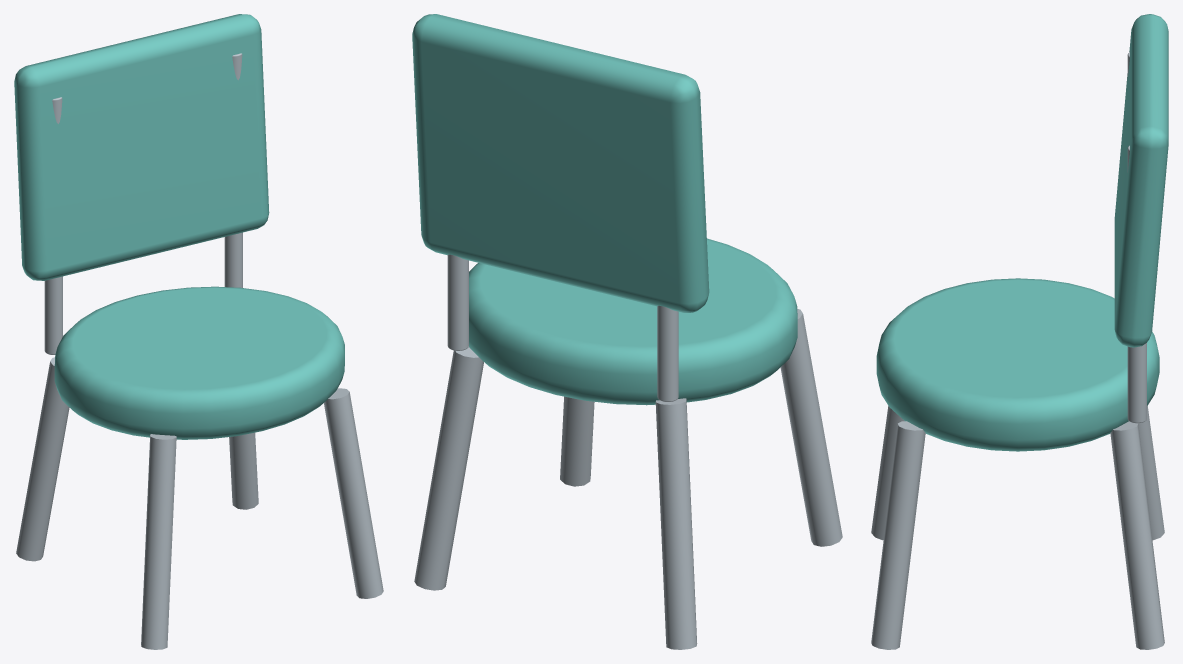
Rendered from kitchenChairMint.glb.
3 views of the same model, side by side, from view 1: azimuth 30°, elevation 25°; view 2: azimuth 150°, elevation 25°; view 3: azimuth 270°, elevation 25° (orthographic). The views are drawn at different scales.
Parts seen in each view (by area): view 1: Rounded dining chair back, Dining chair seat, Splayed chair leg, Splayed chair leg.002, Splayed chair leg.001, Splayed chair leg.003, Dining chair back support, Dining chair back support.001; view 2: Rounded dining chair back, Dining chair seat, Splayed chair leg.001, Splayed chair leg.003, Splayed chair leg, Splayed chair leg.002, Dining chair back support.001, Dining chair back support; view 3: Dining chair seat, Rounded dining chair back, Splayed chair leg.002, Splayed chair leg.003, Splayed chair leg, Dining chair back support.001, Splayed chair leg.001.
Boxes of the visible parts, x1=… form: Rounded dining chair back: x1=14, y1=14, x2=269, y2=280; Dining chair seat: x1=54, y1=286, x2=344, y2=439; Splayed chair leg: x1=141, y1=434, x2=176, y2=649; Splayed chair leg.002: x1=324, y1=388, x2=383, y2=598; Splayed chair leg.001: x1=16, y1=357, x2=69, y2=561; Splayed chair leg.003: x1=229, y1=432, x2=258, y2=509; Dining chair back support: x1=44, y1=97, x2=62, y2=354; Dining chair back support.001: x1=224, y1=53, x2=242, y2=287; Rounded dining chair back: x1=412, y1=14, x2=709, y2=312; Dining chair seat: x1=469, y1=238, x2=797, y2=405; Splayed chair leg.001: x1=655, y1=398, x2=697, y2=649; Splayed chair leg.003: x1=414, y1=346, x2=483, y2=590; Splayed chair leg: x1=780, y1=309, x2=842, y2=546; Splayed chair leg.002: x1=560, y1=396, x2=594, y2=486; Dining chair back support.001: x1=447, y1=254, x2=468, y2=350; Dining chair back support: x1=657, y1=305, x2=678, y2=401; Dining chair seat: x1=876, y1=278, x2=1159, y2=451; Rounded dining chair back: x1=1114, y1=14, x2=1168, y2=347; Splayed chair leg.002: x1=871, y1=421, x2=925, y2=649; Splayed chair leg.003: x1=1110, y1=421, x2=1164, y2=649; Splayed chair leg: x1=871, y1=406, x2=904, y2=540; Dining chair back support.001: x1=1127, y1=145, x2=1146, y2=423; Splayed chair leg.001: x1=1138, y1=406, x2=1164, y2=540.
Bounding box in the file's own units: 0.72 × 1.3 × 0.6737.
